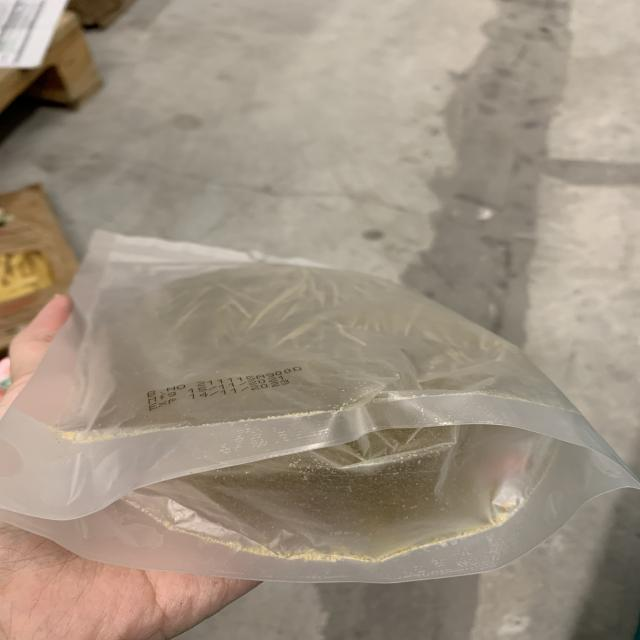object_name: (47, 245, 567, 541)
